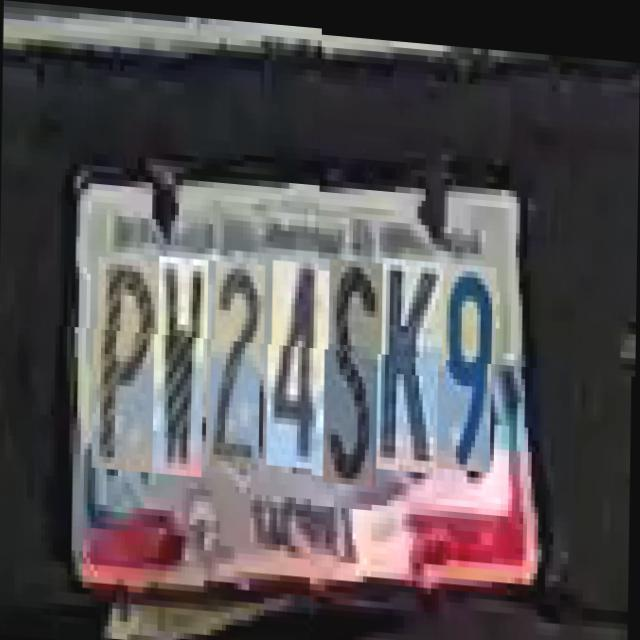2: (215, 263, 266, 472)
4: (272, 261, 331, 470)
9: (442, 254, 497, 463)
K: (381, 250, 444, 466)
P: (97, 260, 160, 477)
S: (328, 252, 384, 480)
W: (158, 258, 210, 480)
